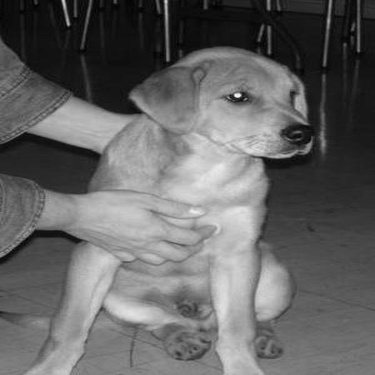dog: (23, 33, 318, 373)
